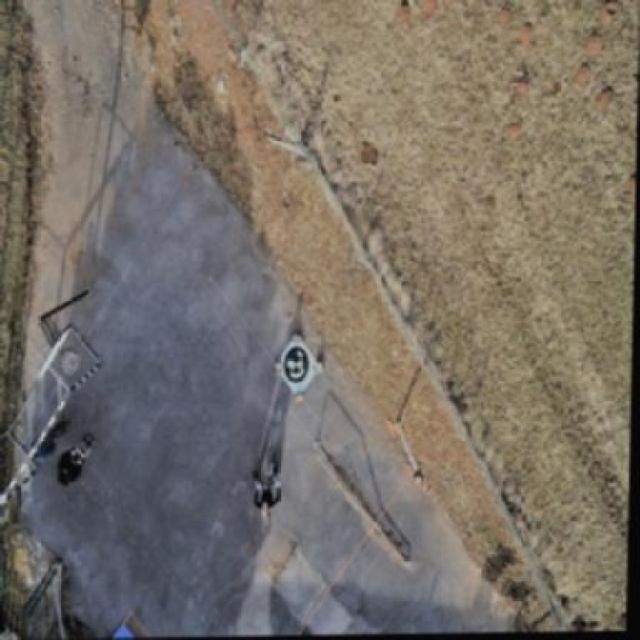Person: (56, 427, 107, 496), (252, 476, 293, 530)
